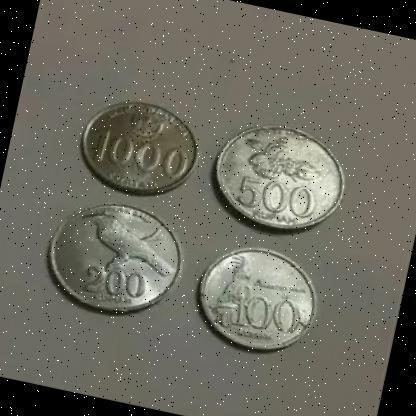coin_1000_e2010: (82, 99, 205, 201)
